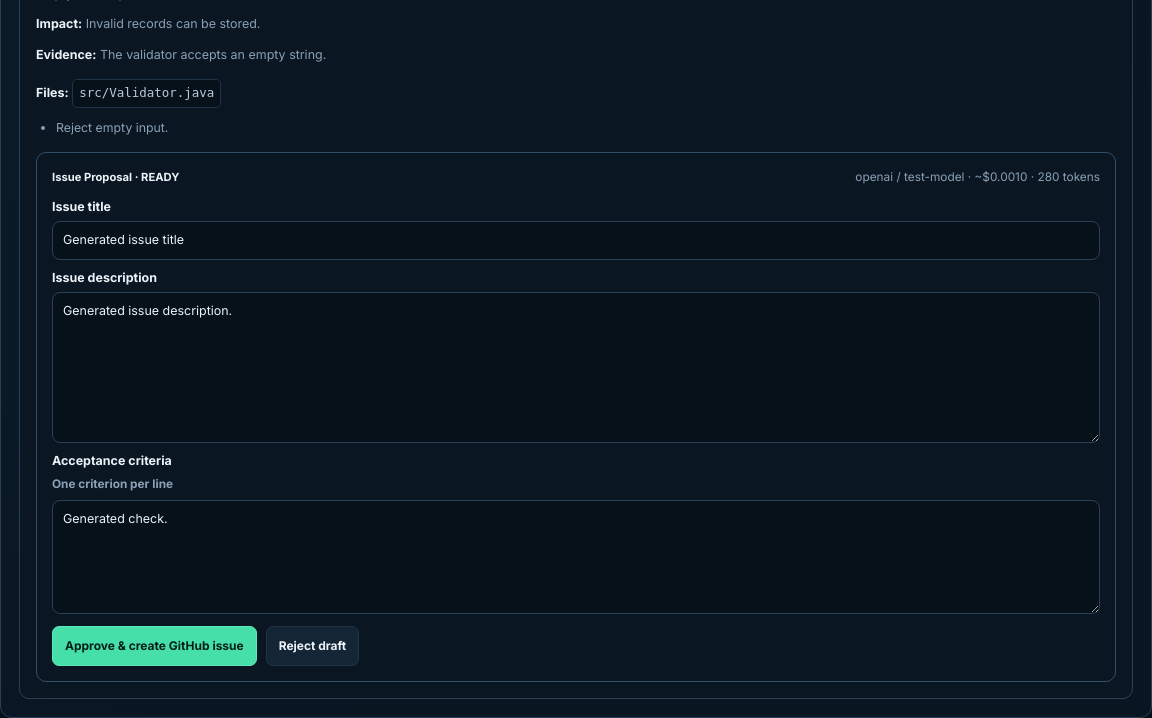
it: allows rejection without issuing a GitHub write
(page scrolled)
Expected: the field showing "Generated issue title" is shown, x1=52 y1=221 x2=1100 y2=260
Step 1. Click the button "Reject draft" → (312, 646), box x1=266 y1=626 x2=359 y2=666
(page scrolled)
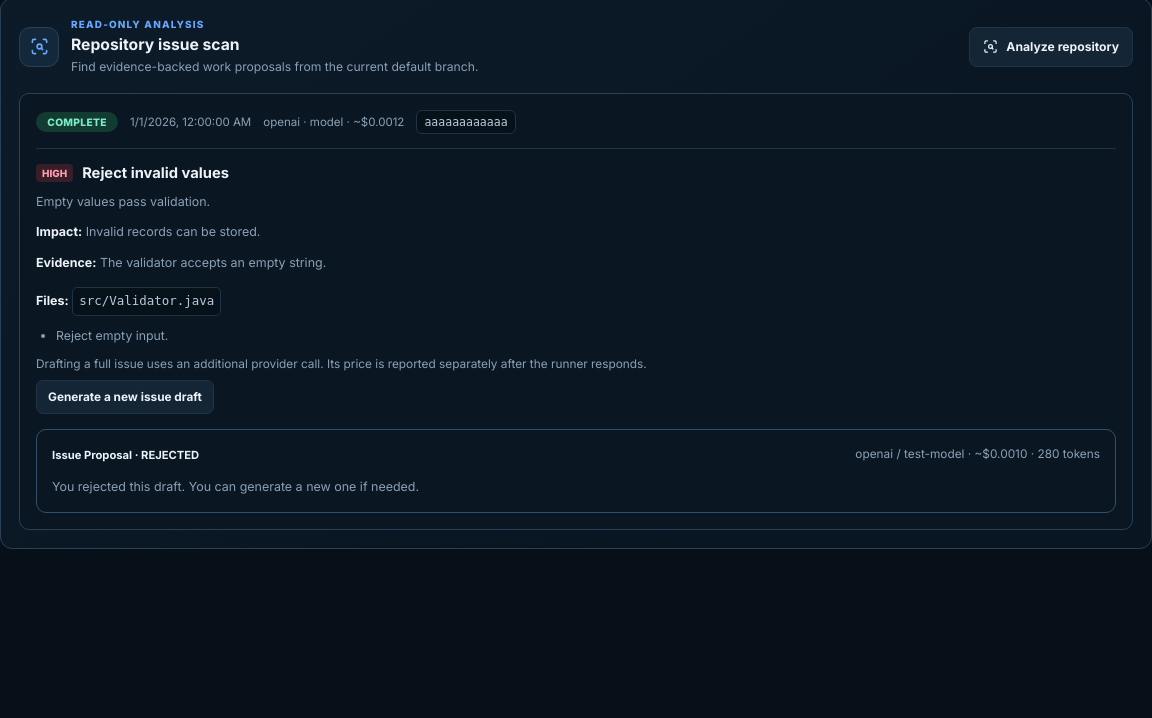
Expected: the text "You rejected this draft. You can generate a new one if needed." is shown, x1=52 y1=479 x2=419 y2=494
